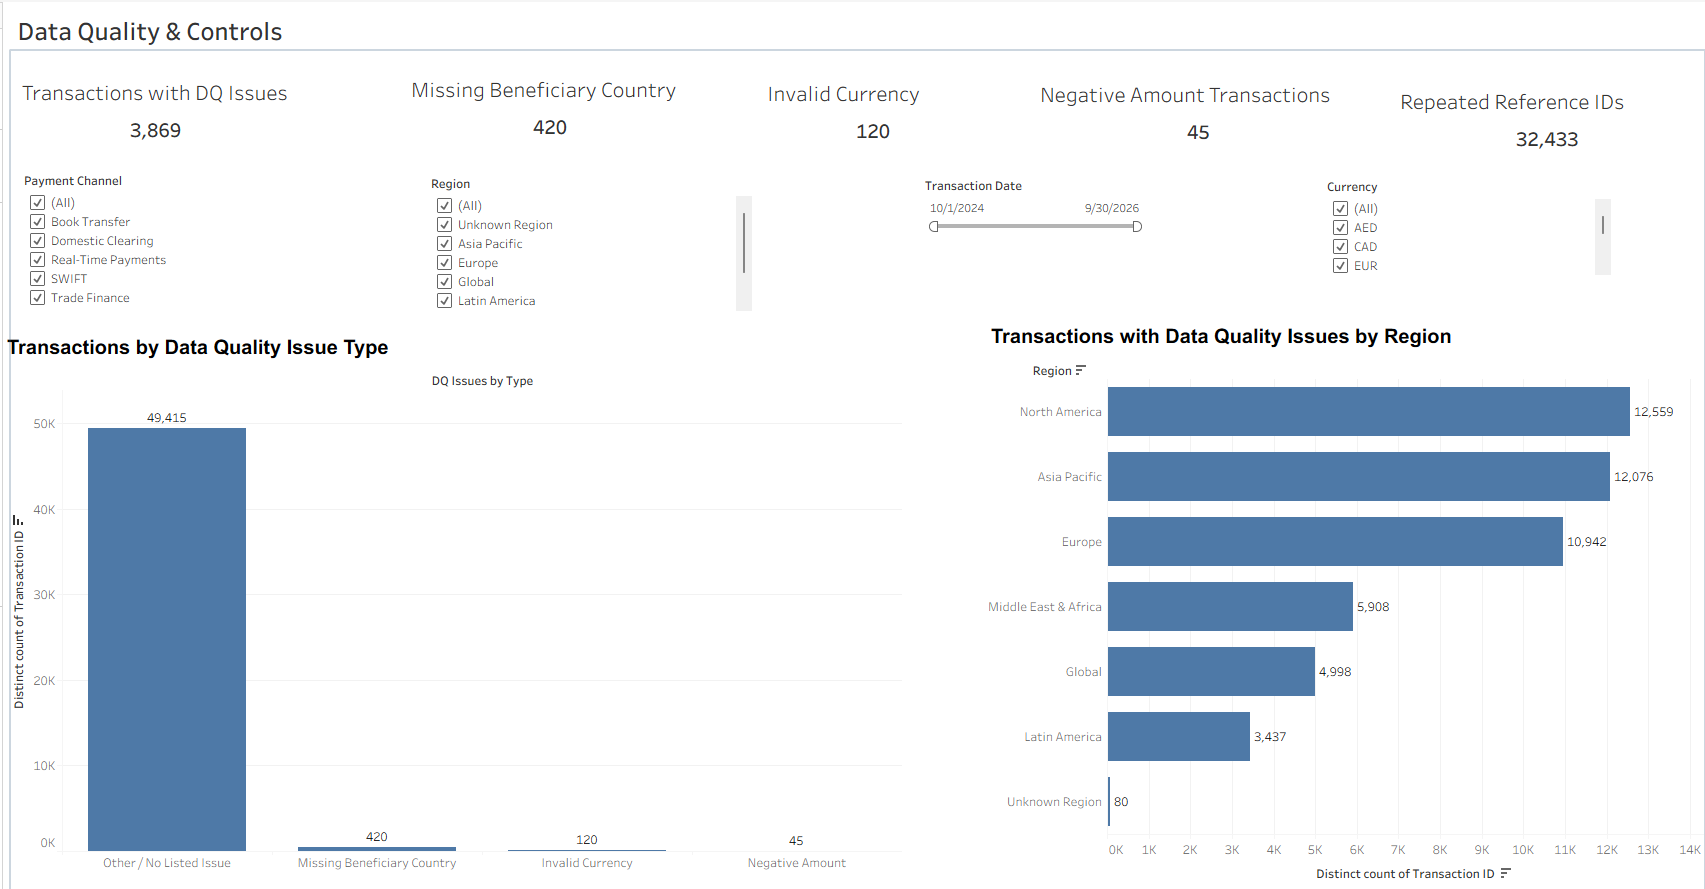

The page's visual inventory and layout, read from the dashboard file:
{"tool":"tableau","page":{"name":"Data Quality & Controls","canvas":[1000,1000],"units":"permille","ordinal":0},"visuals":[{"type":"title","box":[4.7,8.9,990.6,45.8]},{"type":"worksheet","title":"Missing Beneficiary Country","mark":"Automatic","box":[236.4,77,168.5,92.6]},{"type":"worksheet","title":"Transactions with DQ Issues","mark":"Automatic","box":[8.8,80.4,161.5,82.6]},{"type":"worksheet","title":"Invalid Currency","mark":"Automatic","box":[444.7,81.5,129.3,89.3]},{"type":"worksheet","title":"Negative Amount Transactions","mark":"Automatic","box":[604.5,82.6,190.2,93.8]},{"type":"worksheet","title":"Repeated Reference IDs","mark":"Automatic","box":[815.1,90.4,177.9,85.9]},{"type":"filter","title":"DQ Issues by Type","param":"[federated.0pb43j907aj0ad1bkzezx1xp1x8t].[none:PaymentChannel:nk]","box":[12.3,189.7,93.6,154]},{"type":"filter","title":"DQ Issues by Type","param":"[federated.0pb43j907aj0ad1bkzezx1xp1x8t].[none:Region:nk]","box":[250.4,193.1,187.8,151.8]},{"type":"filter","title":"DQ Issues by Type","param":"[federated.0pb43j907aj0ad1bkzezx1xp1x8t].[none:TransactionDate:qk]","box":[539.5,195.3,129.3,68.1]},{"type":"filter","title":"DQ Issues by Type","param":"[federated.0pb43j907aj0ad1bkzezx1xp1x8t].[none:Currency:nk]","box":[774.7,196.4,166.2,108.3]},{"type":"worksheet","title":"DQ Issues by Region","mark":"Automatic","rows":["Region"],"cols":["TransactionID"],"box":[575.8,356,419.5,633.9]},{"type":"worksheet","title":"DQ Issues by Type","mark":"Automatic","rows":["TransactionID"],"cols":["Calculation_0465433516388352"],"box":[0,368.3,526,623.9]}]}

Visuals, with their boxes on the dashboard's canvas, which has no fixed pixel size, in thousandths of its width and height (x1, y1, x2, y2). These are canvas units, not pixel positions in the 1705x889 screenshot, which may show the page scaled, cropped or inside an application window:
title: crop(5, 9, 995, 55)
"Missing Beneficiary Country" worksheet: crop(236, 77, 405, 170)
"Transactions with DQ Issues" worksheet: crop(9, 80, 170, 163)
"Invalid Currency" worksheet: crop(445, 82, 574, 171)
"Negative Amount Transactions" worksheet: crop(604, 83, 795, 176)
"Repeated Reference IDs" worksheet: crop(815, 90, 993, 176)
"DQ Issues by Type" filter: crop(12, 190, 106, 344)
"DQ Issues by Type" filter: crop(250, 193, 438, 345)
"DQ Issues by Type" filter: crop(540, 195, 669, 263)
"DQ Issues by Type" filter: crop(775, 196, 941, 305)
"DQ Issues by Region" worksheet: crop(576, 356, 995, 990)
"DQ Issues by Type" worksheet: crop(0, 368, 526, 992)
